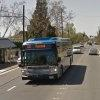Bus: (17, 33, 74, 85)
